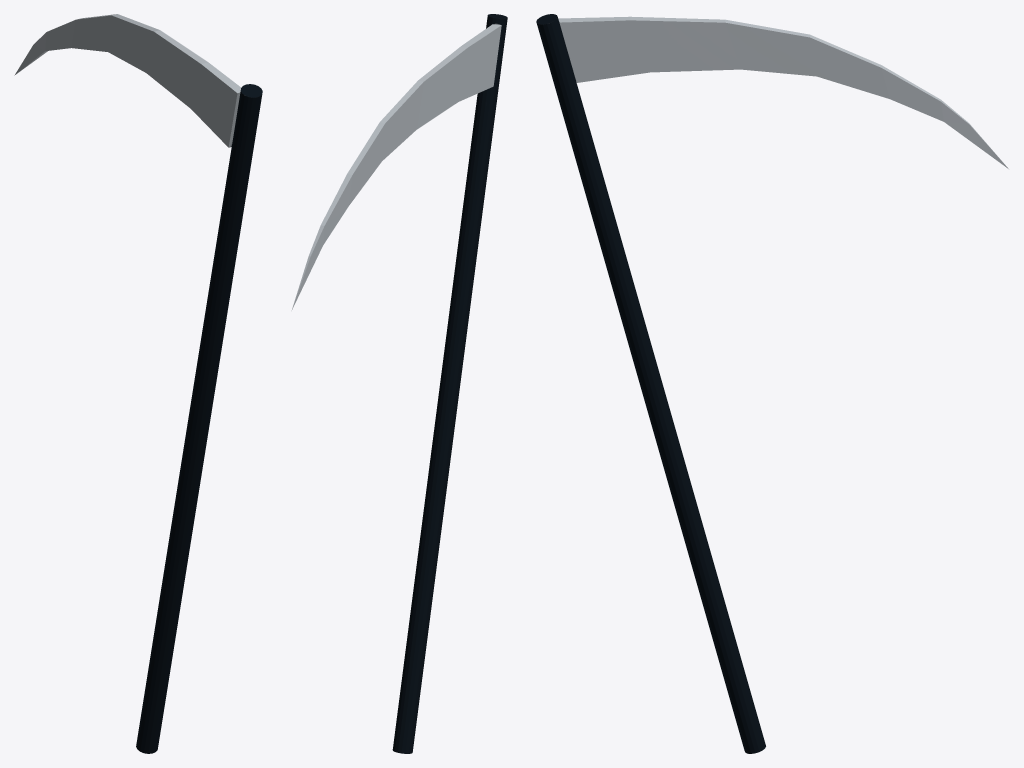
Rendered from extraMuerte.obj.
The picture shows the model from 3 angles, left to right: view 1: azimuth 30°, elevation 25°; view 2: azimuth 150°, elevation 25°; view 3: azimuth 270°, elevation 25°; orthographic projection. The views are drawn at different scales.
Parts seen in each view (by area): view 1: Cube.002; view 2: Cube.002; view 3: Cube.002.
Boxes of the visible parts, x1,y1,x2,y2 form: Cube.002: (14, 14, 262, 753); Cube.002: (291, 14, 507, 753); Cube.002: (536, 14, 1008, 753).
Bounding box in the file's own units: 0.1553 × 5.67 × 3.31.
1 material, 1 textured.
